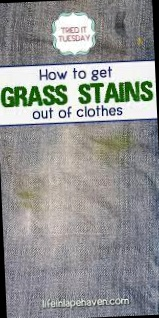earth: (97, 129, 139, 161), (19, 190, 44, 211)
